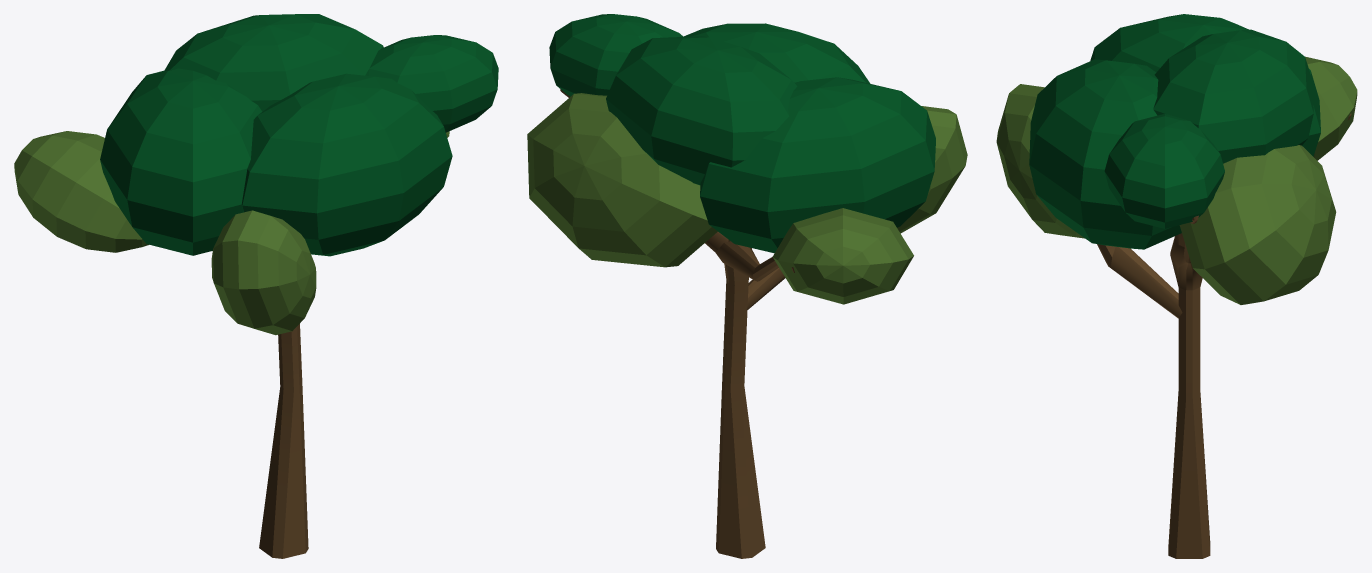
File: ENV_Tree_02.fbx
3 renders of one model, left to right at view 1: azimuth 30°, elevation 25°; view 2: azimuth 150°, elevation 25°; view 3: azimuth 270°, elevation 25°, orthographic.
Visible parts, largest first — view 1: pCube31; view 2: pCube31; view 3: pCube31.
Part boxes in pixels (x1,y1,x2,y2): pCube31: (14, 14, 498, 558); pCube31: (527, 14, 967, 558); pCube31: (996, 14, 1357, 558).
Size of the model in its own units: 21.77 by 25.68 by 16.5.
